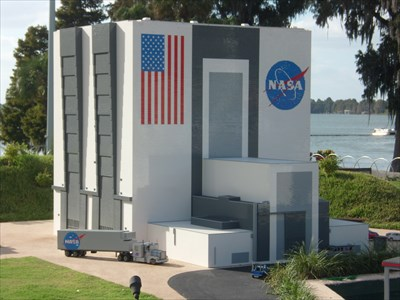NASA: (260, 58, 310, 112), (60, 231, 86, 250)
